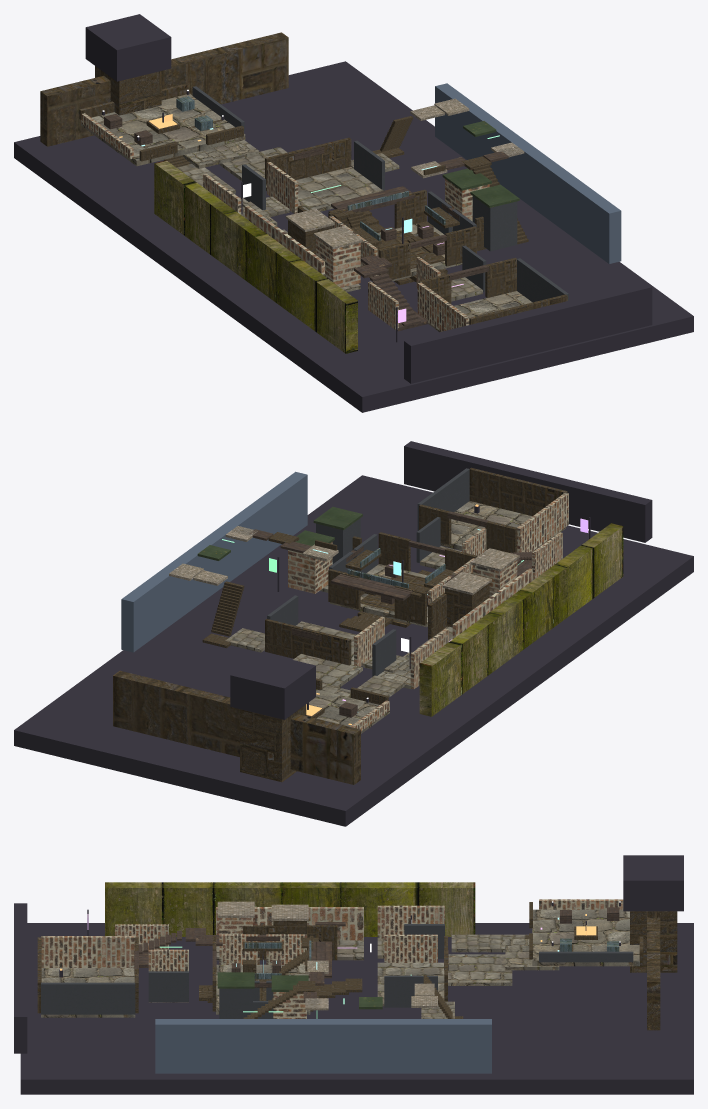
Rendered from ember_climb.glb.
3 views of the same model, one above another, from view 1: azimuth 30°, elevation 25°; view 2: azimuth 150°, elevation 25°; view 3: azimuth 270°, elevation 25° (orthographic). The views are drawn at different scales.
Parts seen in each view (by area): view 1: COL_Terrain, COL_Outer_W, COL_Outer_S, COL_Outer_E, COL_Outer_N, VIS_HearthDome, COL_PlazaFloor, COL_NorthFloor, COL_NorthWall_N, COL_HearthBase, COL_Shell_1, COL_Shell_0 (+27 smaller); view 2: COL_Terrain, COL_Outer_W, COL_Outer_N, COL_Outer_E, COL_Outer_S, VIS_HearthDome, COL_HearthBase, COL_HubWall_S, COL_NorthWall_N, COL_HubWall_W, COL_HubFloor, COL_Shell_3 (+27 smaller); view 3: COL_Terrain, COL_Outer_E, COL_Outer_W, COL_PlazaFloor, VIS_HearthDome, COL_HubWall_E, COL_HubWall_W, COL_Outer_S, COL_HearthBase, COL_NorthToPlaza, COL_WestAlleyWall_W, COL_HubFloor (+26 smaller).
Boxes of the visible parts, x1,y1,x2,y2 form: COL_Terrain: (14,61,693,412); COL_Outer_W: (154,160,357,353); COL_Outer_S: (404,282,652,383); COL_Outer_E: (435,83,621,263); COL_Outer_N: (40,32,288,146); VIS_HearthDome: (85,14,171,81); COL_PlazaFloor: (81,93,245,166); COL_NorthFloor: (266,167,383,211); COL_NorthWall_N: (265,137,351,190); COL_HearthBase: (95,66,161,115); COL_Shell_1: (472,196,517,251); COL_Shell_0: (316,237,360,287); COL_Terrain: (14,475,693,826); COL_Outer_W: (419,523,623,716); COL_Outer_N: (113,670,360,784); COL_Outer_E: (121,471,307,652); COL_Outer_S: (404,441,652,542); VIS_HearthDome: (230,652,315,719); COL_HearthBase: (240,704,306,782); COL_HubWall_S: (469,467,567,516); COL_NorthWall_N: (265,619,351,665); COL_HubWall_W: (517,492,568,552); COL_HubFloor: (440,501,565,551); COL_Shell_3: (288,542,332,593); COL_Terrain: (20,923,693,1094); COL_Outer_E: (155,1019,491,1073); COL_Outer_W: (105,882,475,936); COL_PlazaFloor: (532,909,639,966); VIS_HearthDome: (623,855,683,911); COL_HubWall_E: (41,982,135,1014); COL_HubWall_W: (41,936,135,967); COL_Outer_S: (14,903,27,1053); COL_HearthBase: (630,911,677,972); COL_NorthToPlaza: (448,954,512,985); COL_WestAlleyWall_W: (216,907,363,940); COL_HubFloor: (41,968,135,1017).
Size of the model in its own units: 55 by 18.75 by 101.
16 materials, 9 textured.
